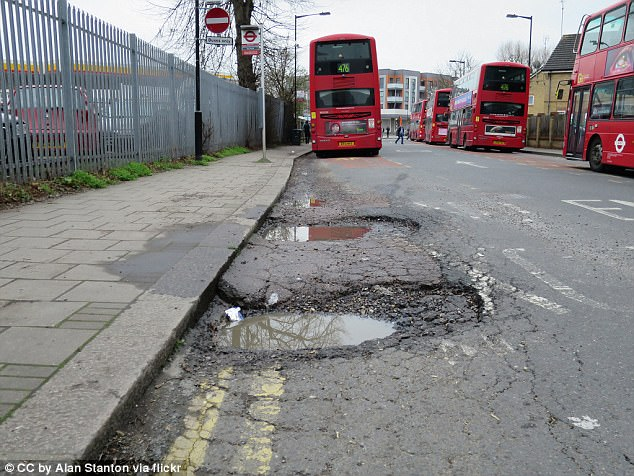pothole: (195, 253, 472, 381), (252, 197, 402, 258)
